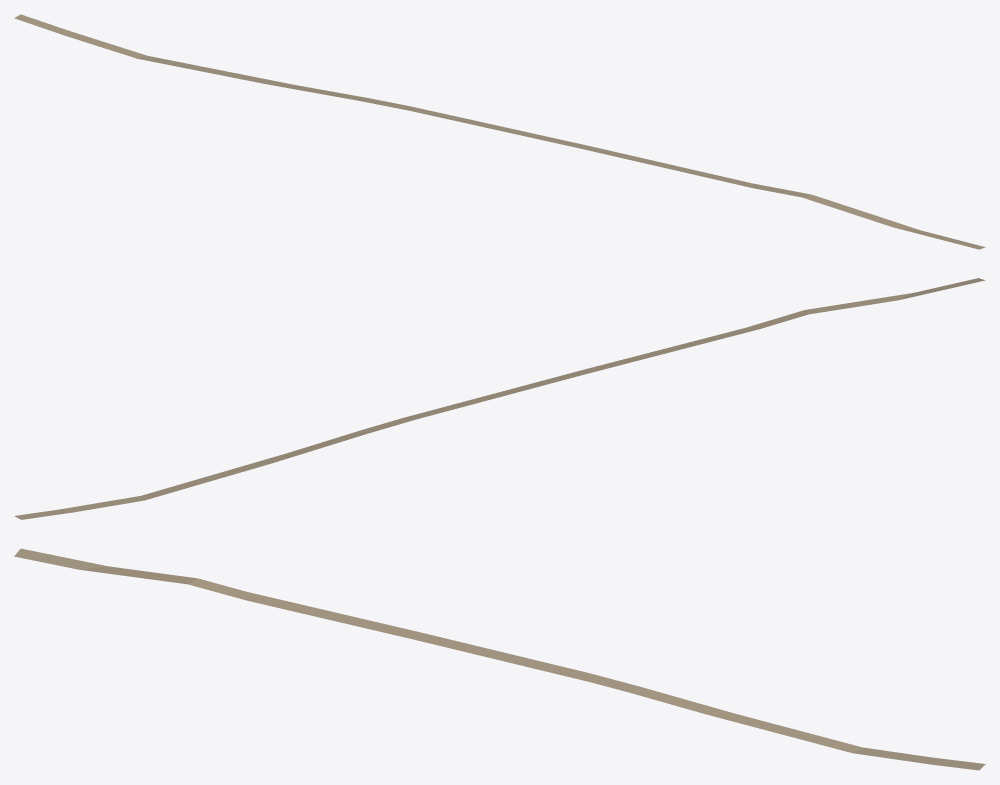
The model's file is farm_-2_-1_track.glb.
The picture shows the model from 3 angles, top to bottom: view 1: azimuth 90°, elevation 25°; view 2: azimuth 150°, elevation 25°; view 3: azimuth 270°, elevation 25°; orthographic projection. The views are drawn at different scales.
Parts seen in each view (by area): view 1: geometry_0; view 2: geometry_0; view 3: geometry_0.
Part boxes in pixels (box(x1,y1,x2,y2)): geometry_0: box(14, 14, 985, 249); geometry_0: box(14, 278, 985, 519); geometry_0: box(14, 548, 985, 770).
Bounding box in the file's own units: 126 × 4.26 × 227.
